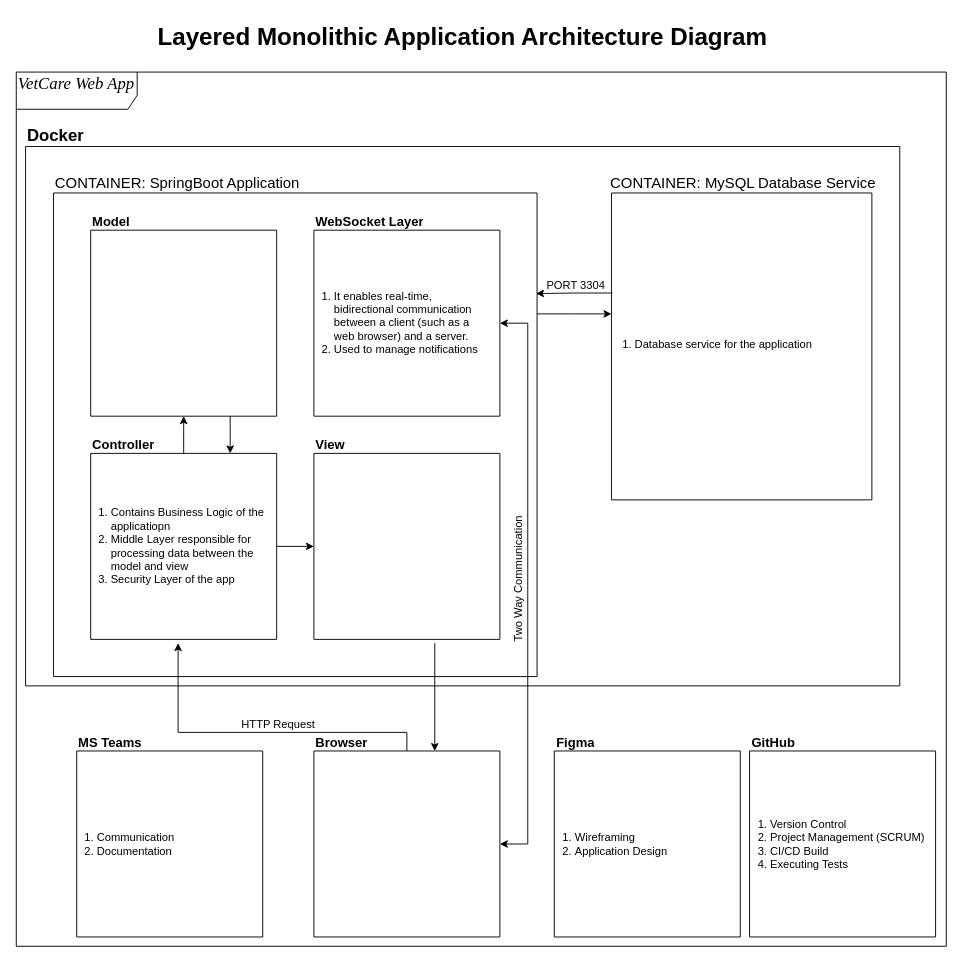
Some shapes in this 963 by 963 pixel diagram are drawn without their labels. Each missing label, with the centre of its shape:
1. User Interaction 2. Displaying HTML 3. Processing JavaScript: (x=406, y=843)
Contains Object Information Schema Declaration Data Management: (x=183, y=322)
User Interacts with this layer Implements security on the user's side: (x=406, y=545)
